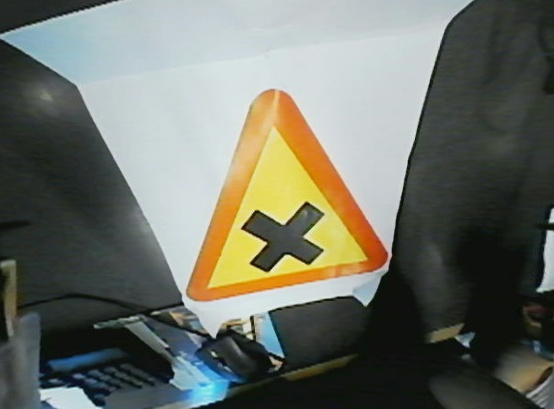junction: (170, 85, 399, 297)
